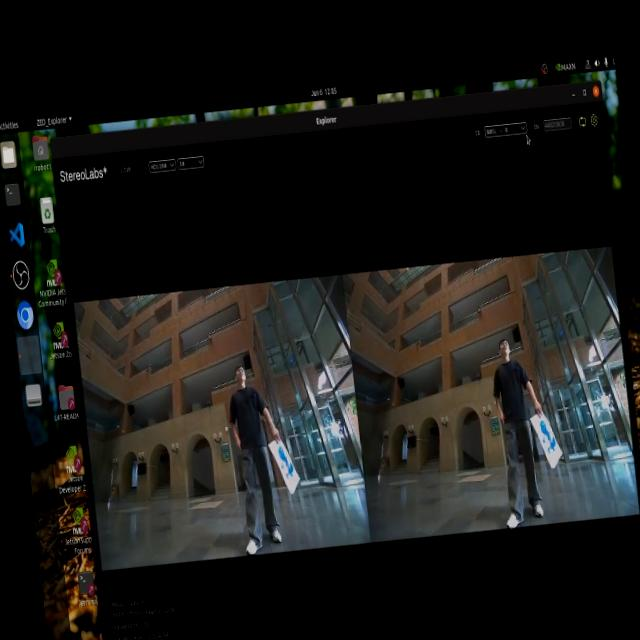blue: (535, 418, 564, 457), (276, 440, 299, 481)
